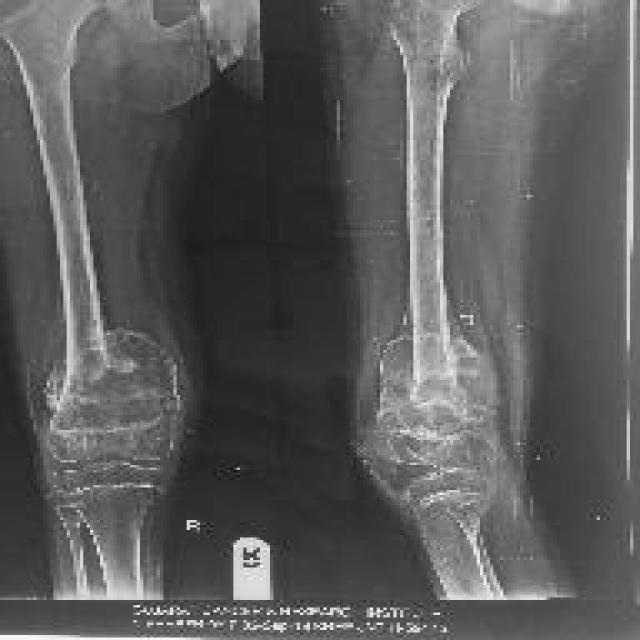bone-cancer: (378, 312, 504, 433), (36, 328, 173, 435)
